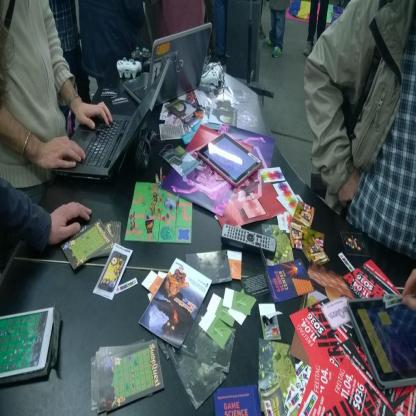board: (56, 37, 160, 181), (123, 23, 211, 107)
